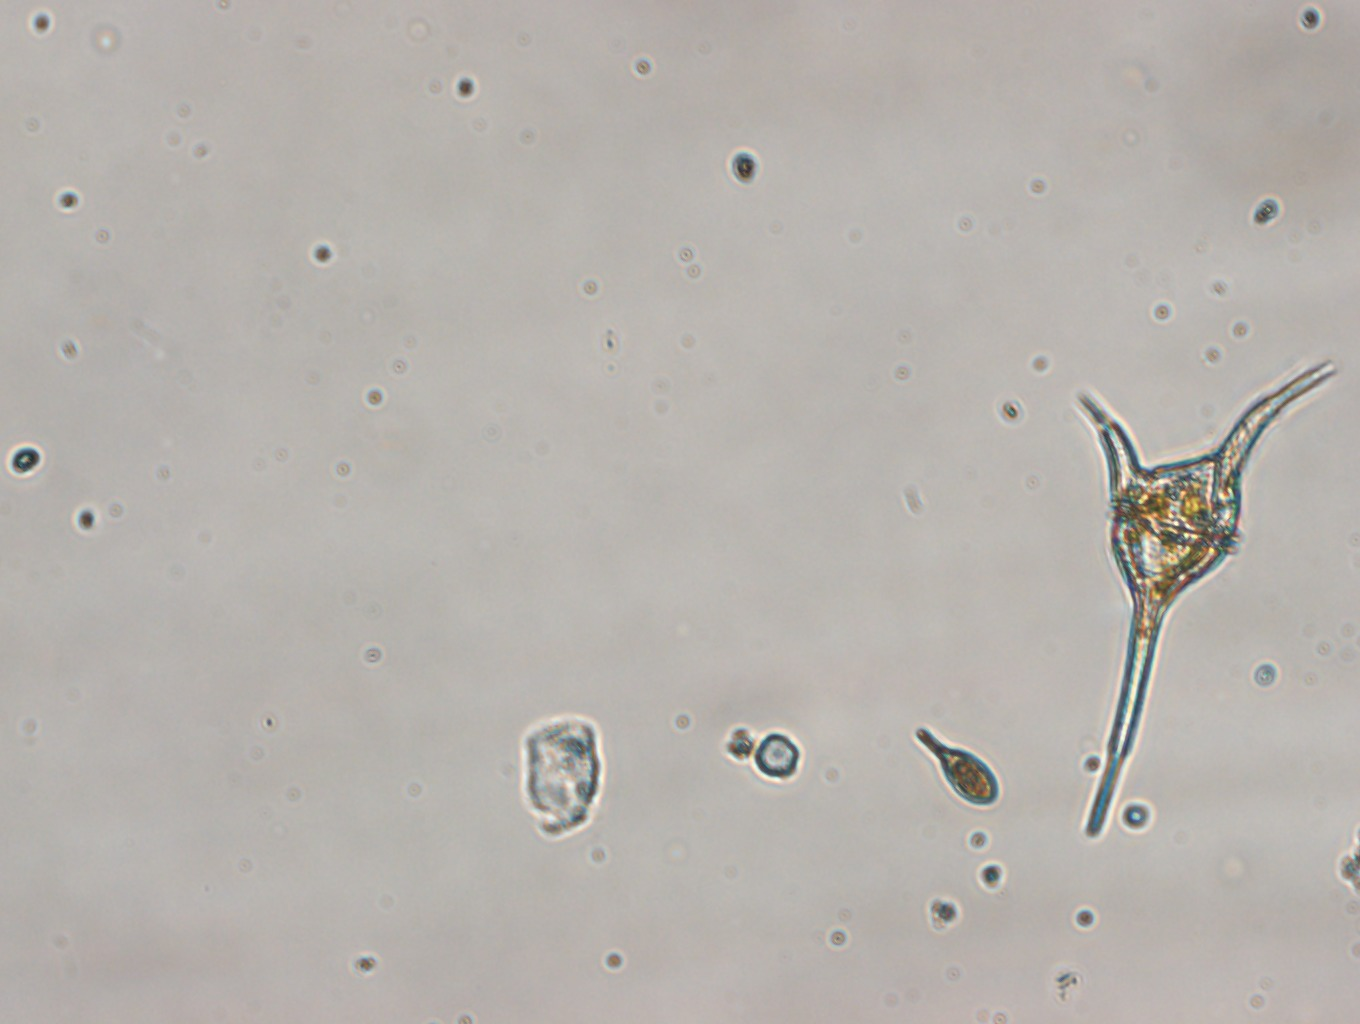ceratium furca: (1077, 356, 1336, 838)
